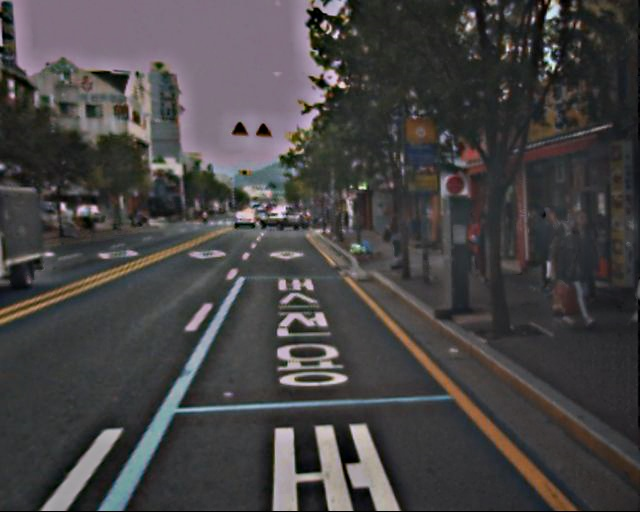person: (539, 207, 597, 330), (623, 212, 640, 334), (464, 213, 491, 282), (387, 212, 407, 261)
